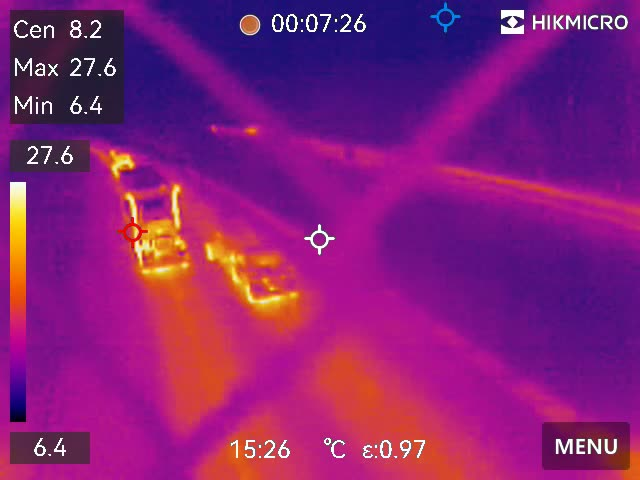heavyTruck: (117, 173, 188, 272)
vehicle: (223, 240, 305, 304)
